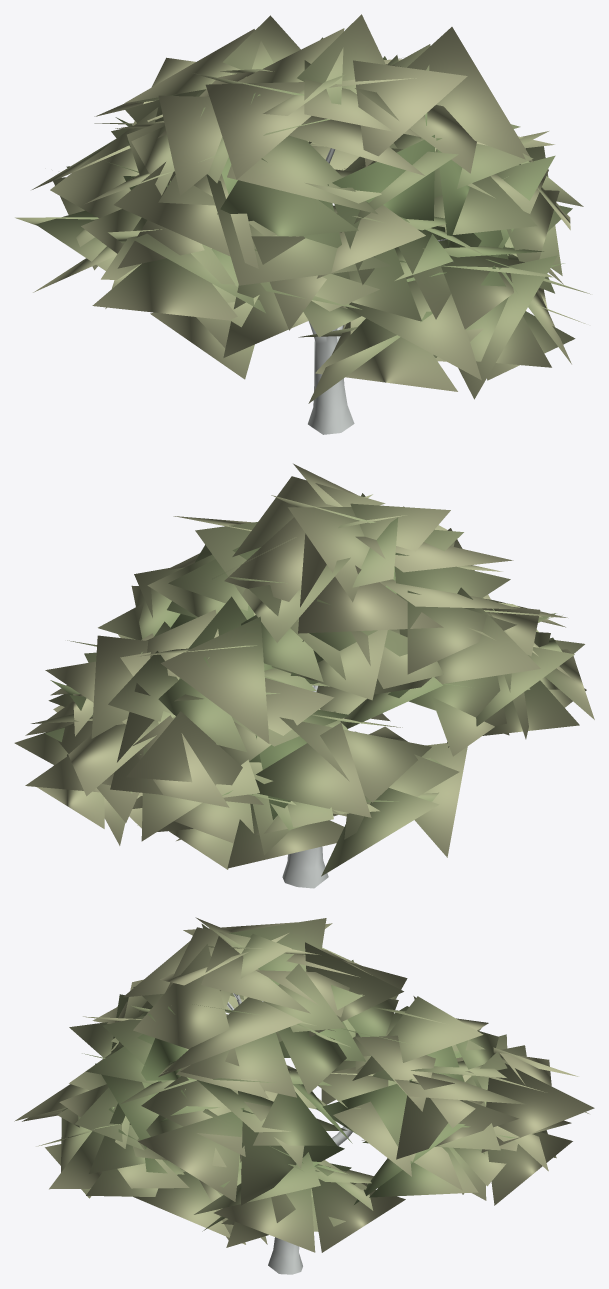
The picture shows the model from 3 angles, top to bottom: view 1: azimuth 30°, elevation 25°; view 2: azimuth 150°, elevation 25°; view 3: azimuth 270°, elevation 25°; orthographic projection. The views are drawn at different scales.
Parts seen in each view (by area): view 1: G:\FFXIV-MapTools\exports\k5f1\bg\ex4\03_kld_k5\fld\k5f1\bgp (×2); view 2: G:\FFXIV-MapTools\exports\k5f1\bg\ex4\03_kld_k5\fld\k5f1\bgp (×2); view 3: G:\FFXIV-MapTools\exports\k5f1\bg\ex4\03_kld_k5\fld\k5f1\bgp (×2).
Part boxes in pixels (bbox=[...]): G:\FFXIV-MapTools\exports\k5f1\bg\ex4\03_kld_k5\fld\k5f1\bgp (×2): bbox=[15, 14, 590, 434]; G:\FFXIV-MapTools\exports\k5f1\bg\ex4\03_kld_k5\fld\k5f1\bgp (×2): bbox=[14, 463, 594, 888]; G:\FFXIV-MapTools\exports\k5f1\bg\ex4\03_kld_k5\fld\k5f1\bgp (×2): bbox=[14, 917, 594, 1274].
Size of the model in its own units: 33.8 by 25.02 by 39.7.
